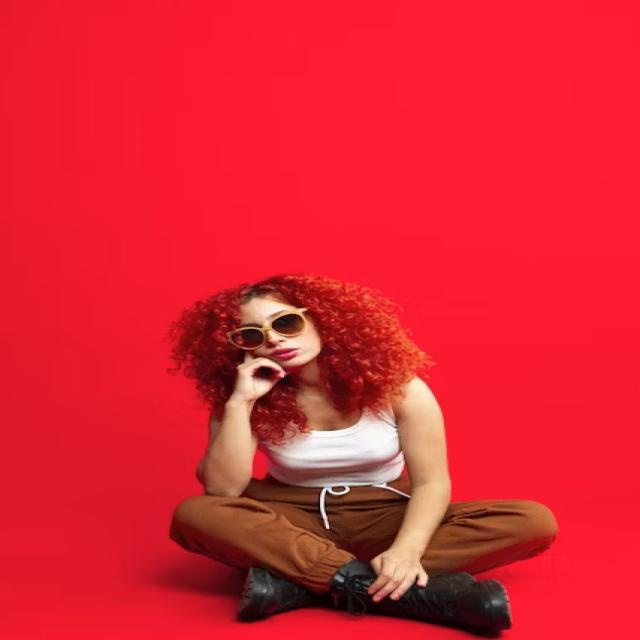Edited images: (139, 251, 590, 640)
